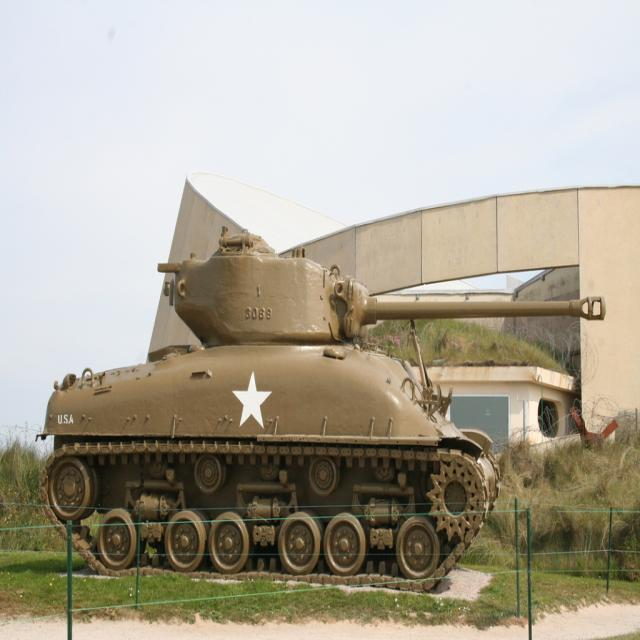tank: (36, 225, 605, 591)
